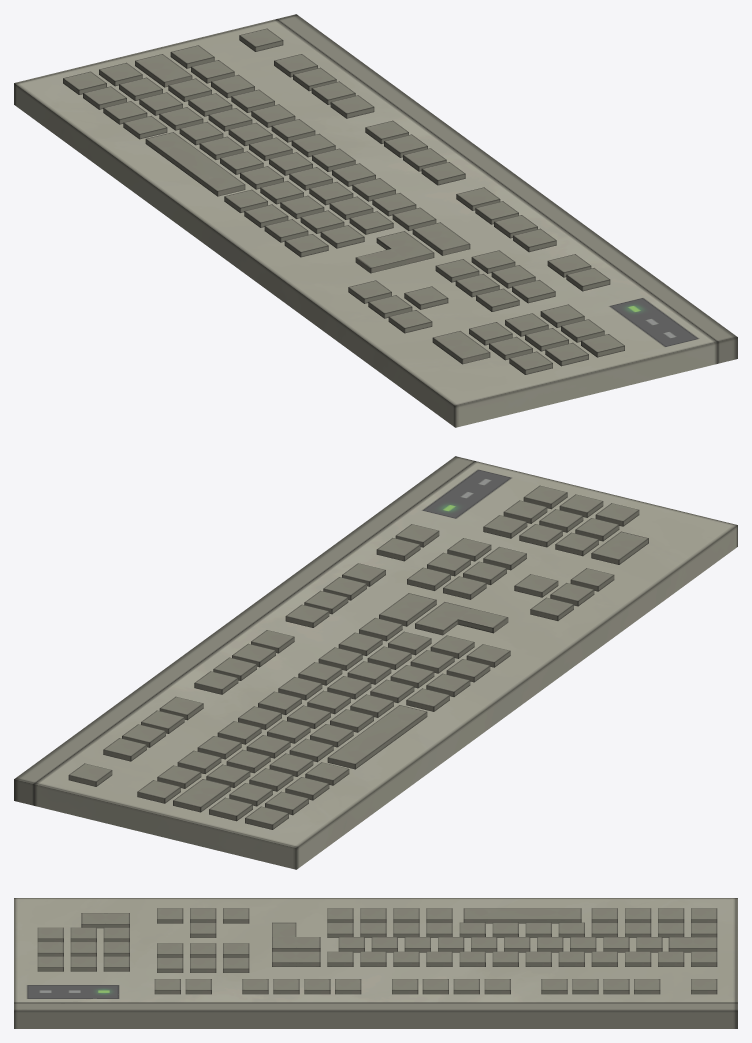
Rendered from keyboard.fbx.
3 renders of one model, top to bottom at view 1: azimuth 30°, elevation 25°; view 2: azimuth 150°, elevation 25°; view 3: azimuth 270°, elevation 25°, orthographic. The views are drawn at different scales.
Parts seen in each view (by area): view 1: polySurface719; view 2: polySurface719; view 3: polySurface719.
Boxes of the visible parts, x1,y1,x2,y2 form: polySurface719: (14,14,737,427); polySurface719: (14,456,737,869); polySurface719: (14,898,737,1028).
Size of the model in its own units: 0.297 by 0.027 by 0.8038.
